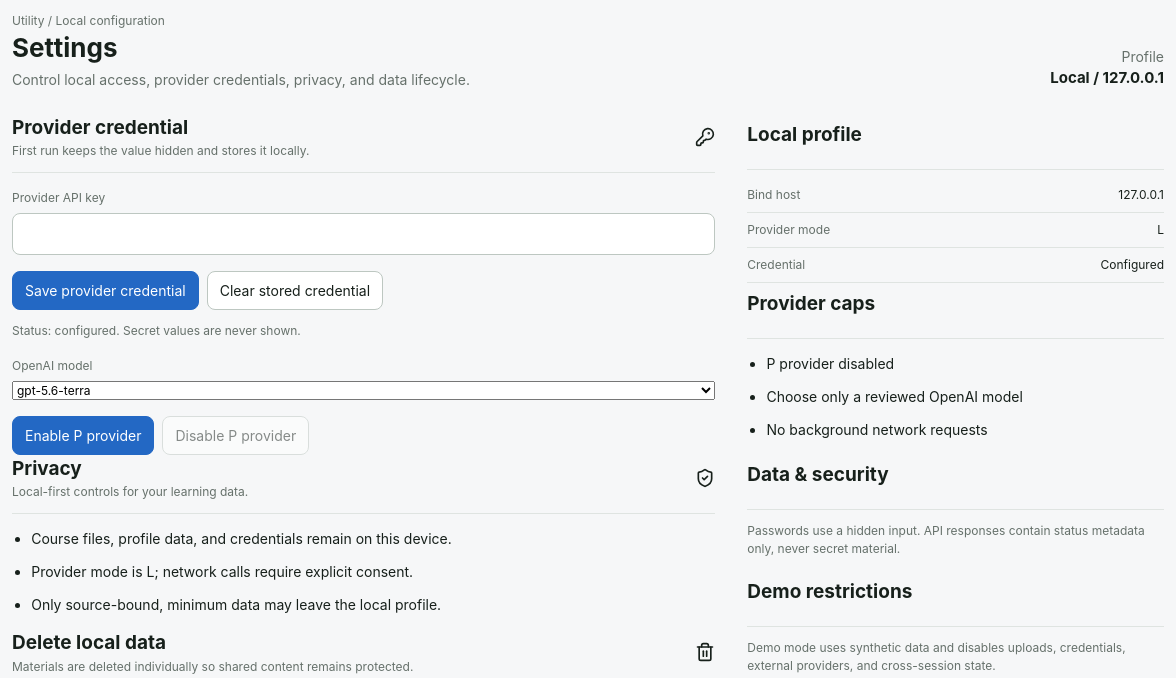
Test case: SettingsView › explicitly enables a reviewed model and disables the active provider profile
The width and height of the screenshot is (1176, 678).
Expected: the text "Status: configured. Secret values are never shown." is shown, [12, 323, 301, 338]
Select "gpt-5.6-terra" in the dropdown labelled "OpenAI model" at point(364, 390), box [12, 381, 715, 400]
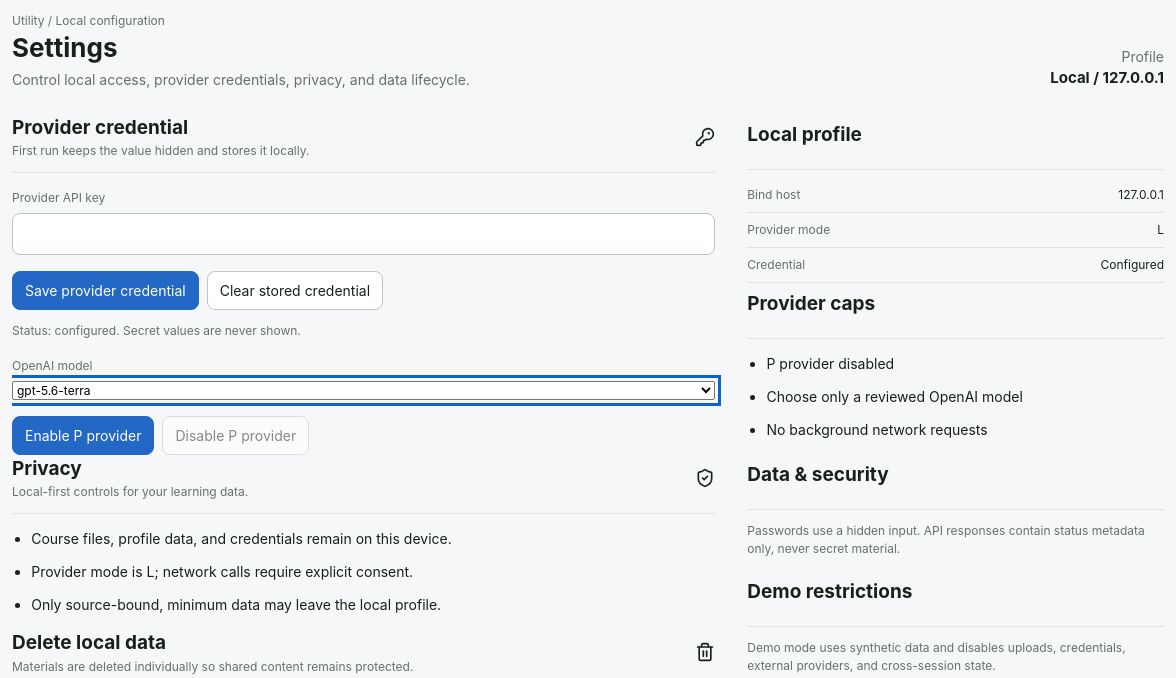
Click the button "Enable P provider".
click(83, 435)  # box [12, 416, 154, 455]
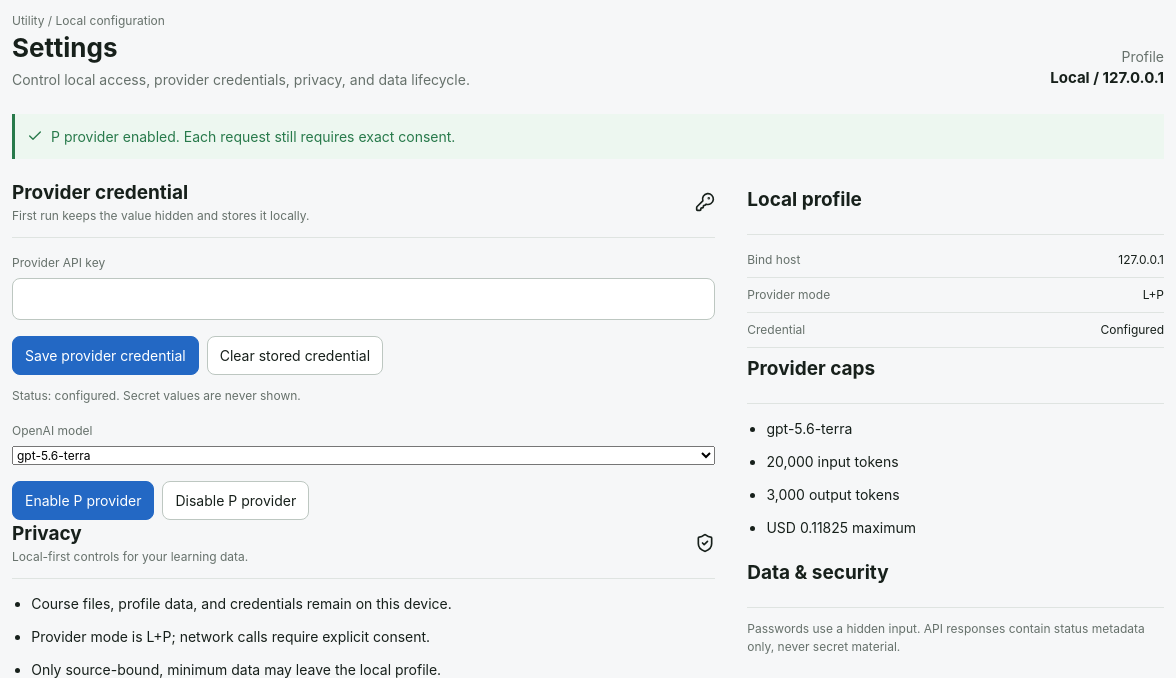
Result: the list item "USD 0.11825 maximum" is shown at [766, 518, 916, 536]
Result: the list item "20,000 input tokens" is shown at [766, 452, 899, 470]
Result: the list item "3,000 output tokens" is shown at [766, 486, 900, 502]
Click the button "Disable P provider".
click(236, 500)  # box [162, 481, 309, 520]
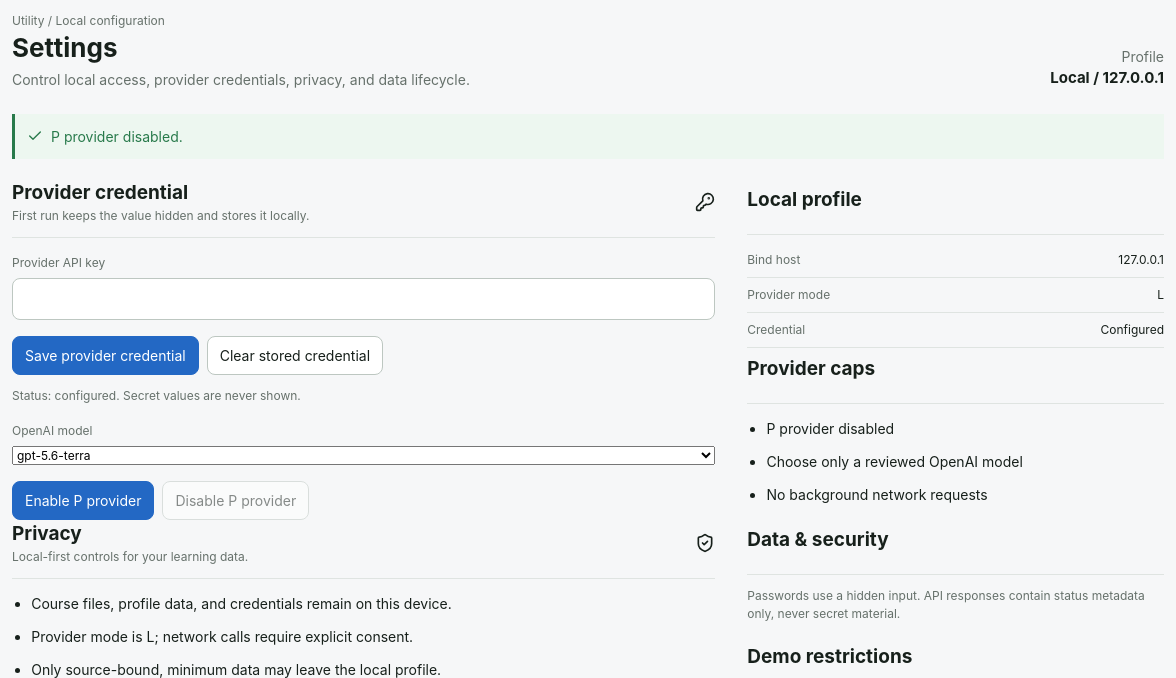
Result: the list item "Provider mode is L; network calls require explicit consent." is shown at [31, 628, 413, 645]
